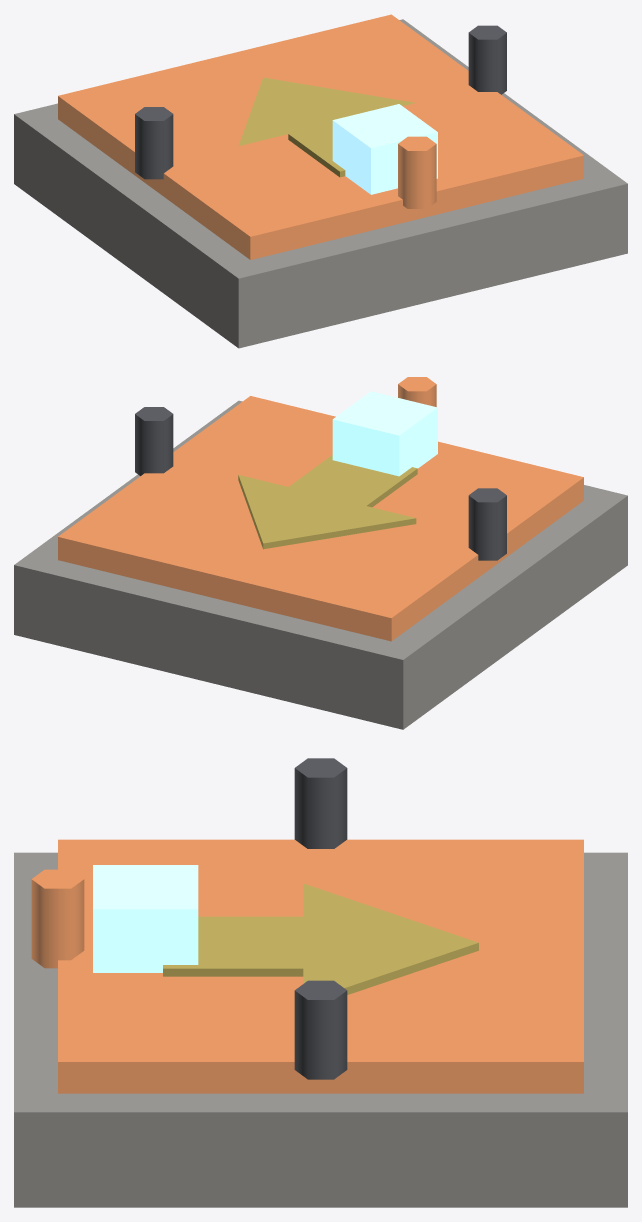
The model's file is build_gate_timer.glb.
3 renders of one model, top to bottom at view 1: azimuth 30°, elevation 25°; view 2: azimuth 150°, elevation 25°; view 3: azimuth 270°, elevation 25°, orthographic. The views are drawn at different scales.
Parts seen in each view (by area): view 1: Baked; view 2: Baked; view 3: Baked.
Boxes of the visible parts, x1,y1,x2,y2 form: Baked: (14, 14, 627, 348); Baked: (14, 377, 627, 729); Baked: (14, 758, 627, 1207).
Size of the model in its own units: 0.7 by 0.25 by 0.7.
